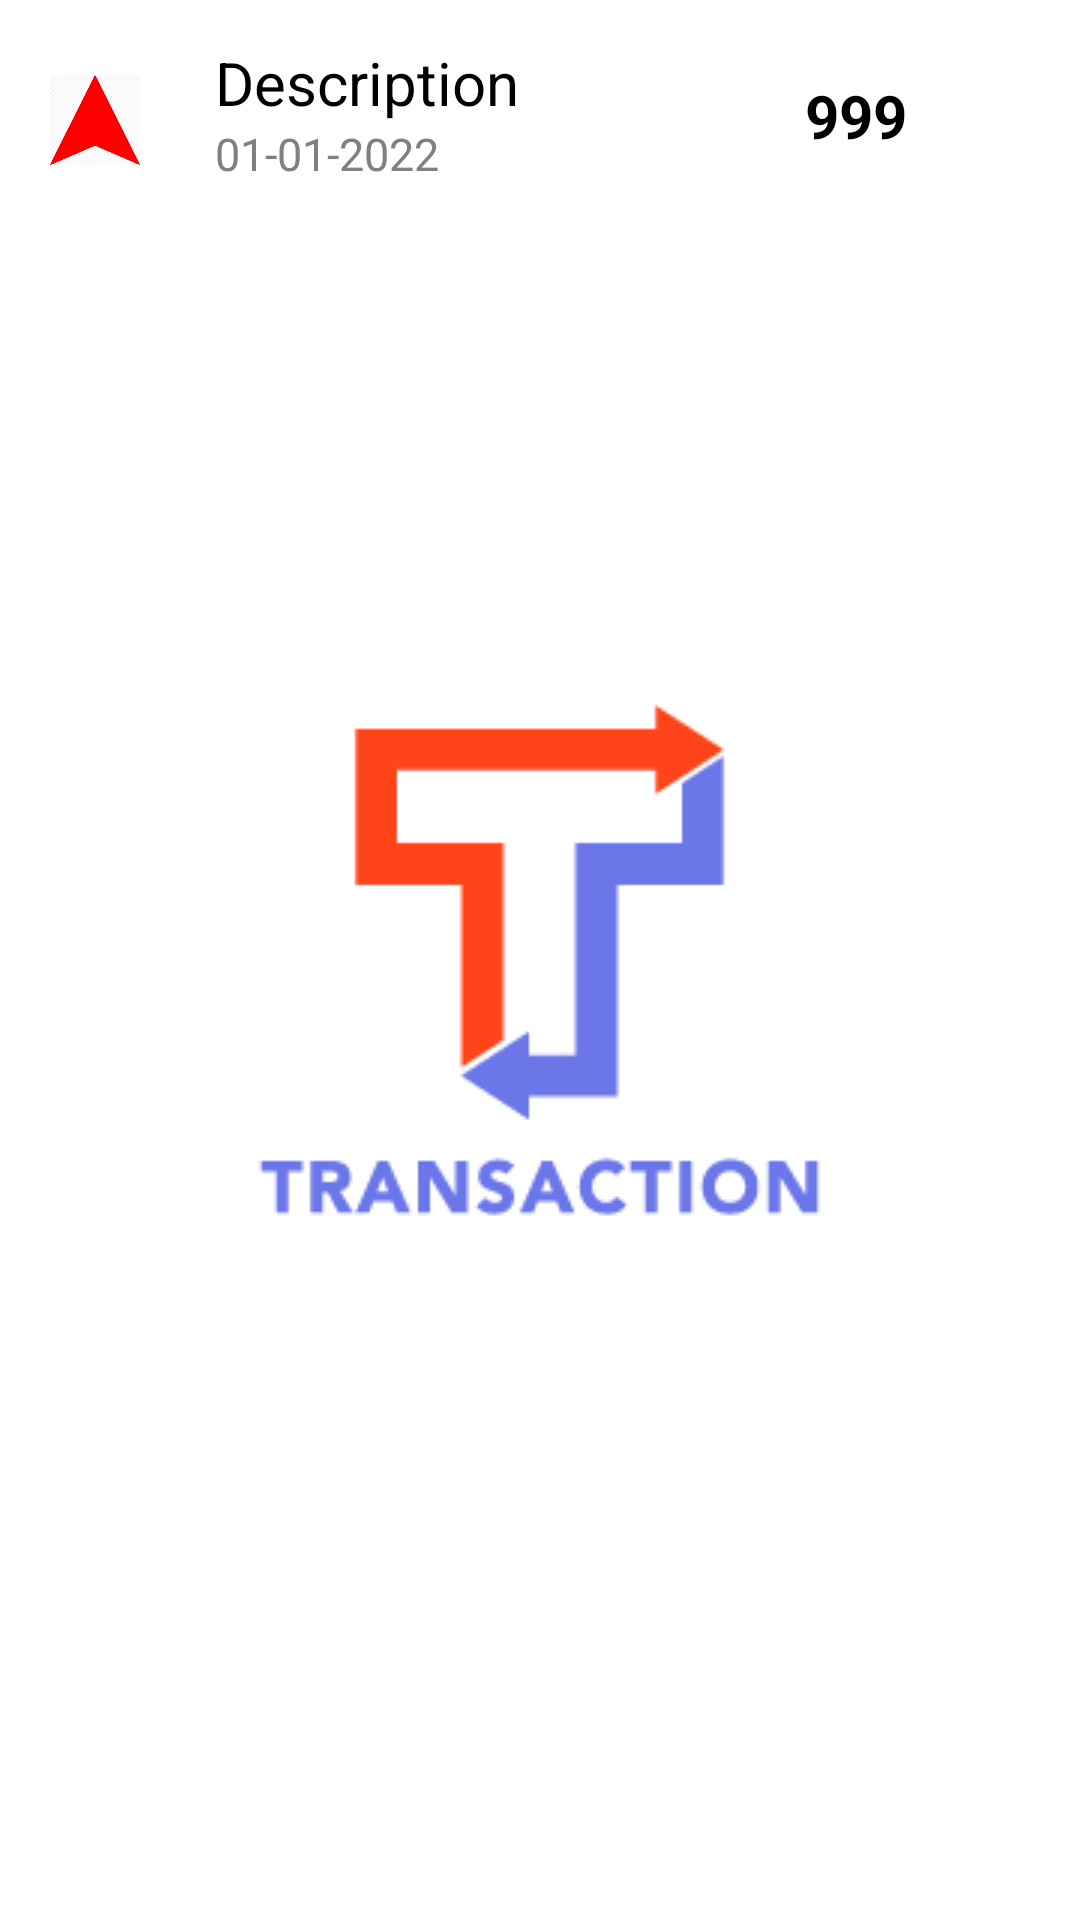

Point at icon controls on the screen. Image size 1080px×1920px, points as (x,y).
arrow up: (95,120)
